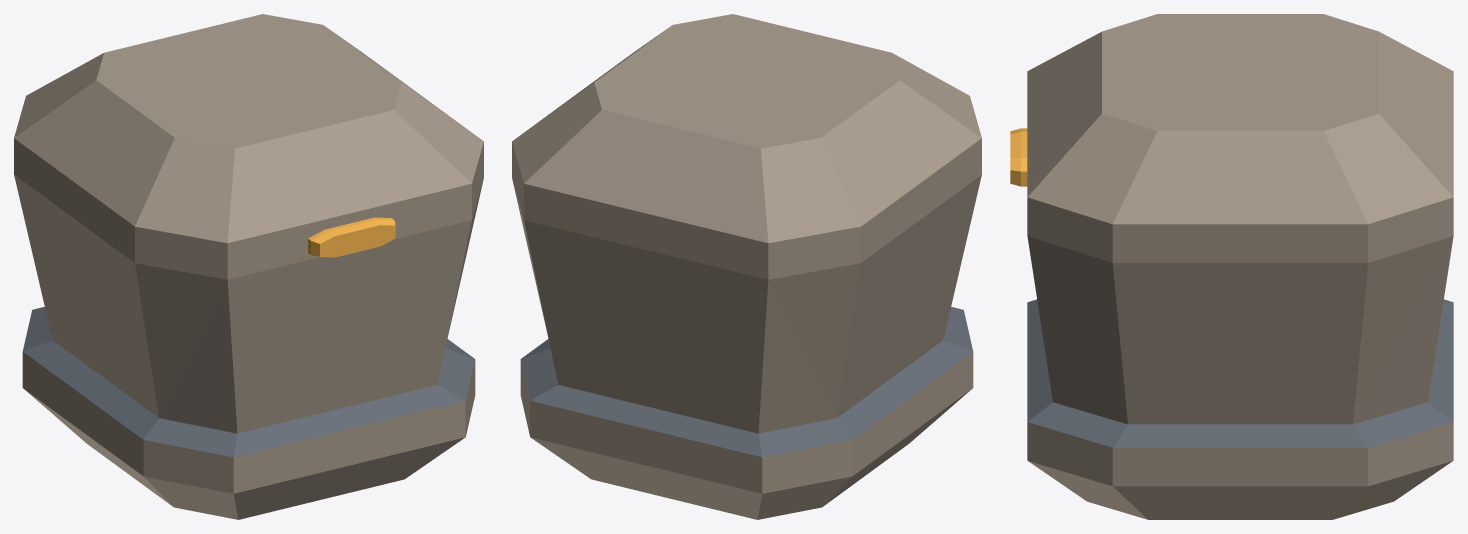
File: pauldron_medium.glb
3 renders of one model, left to right at view 1: azimuth 30°, elevation 25°; view 2: azimuth 150°, elevation 25°; view 3: azimuth 270°, elevation 25°, orthographic. The views are drawn at different scales.
Visible parts, largest first — view 1: pauldron_medium; view 2: pauldron_medium; view 3: pauldron_medium.
Part boxes in pixels (left/top/right/bottom): pauldron_medium: left=14, top=14, right=483, bottom=519; pauldron_medium: left=512, top=14, right=981, bottom=519; pauldron_medium: left=1010, top=14, right=1453, bottom=519.
Bounding box in the file's own units: 1 × 1 × 1.04.
